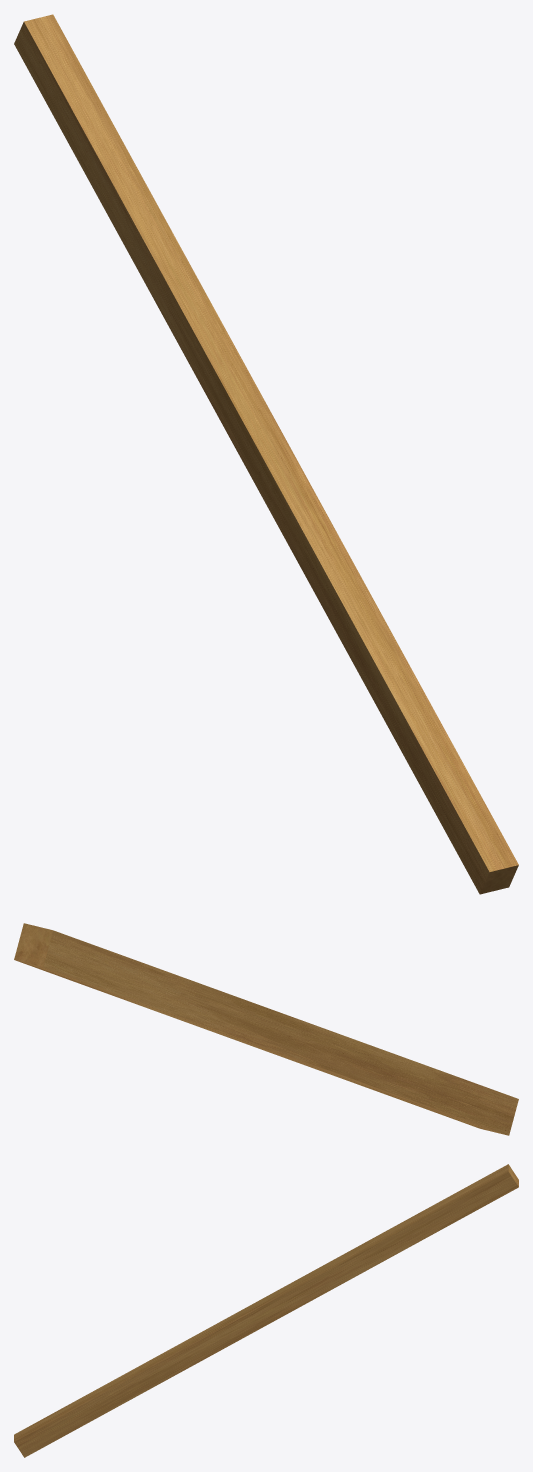
File: MarsBarre.fbx
The picture shows the model from 3 angles, top to bottom: view 1: azimuth 30°, elevation 25°; view 2: azimuth 150°, elevation 25°; view 3: azimuth 270°, elevation 25°; orthographic projection. The views are drawn at different scales.
Visible parts, largest first — view 1: MarsBarre; view 2: MarsBarre; view 3: MarsBarre.
Part boxes in pixels (x1,y1,x2,y2): MarsBarre: (14,14,518,894); MarsBarre: (14,923,518,1135); MarsBarre: (14,1164,518,1457).
Bounding box in the file's own units: 8 × 140 × 225.
1 material, 1 textured.
